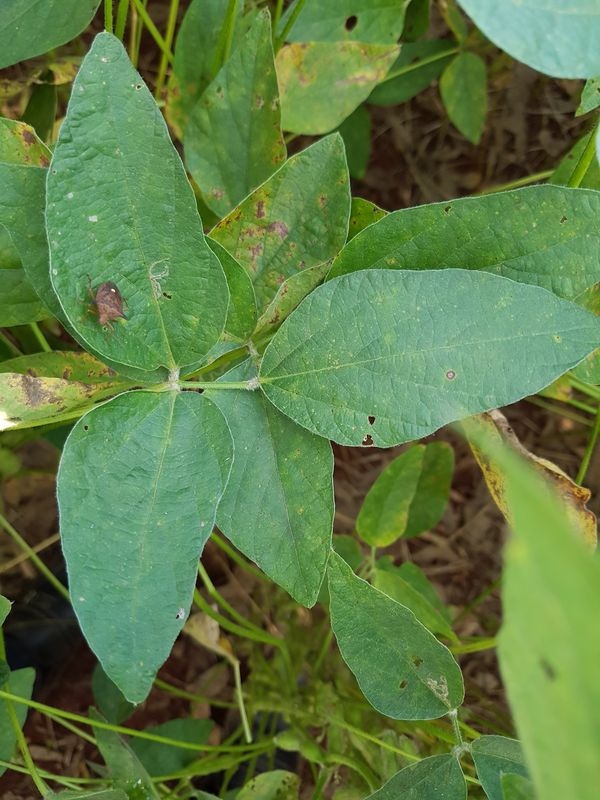Euschistus_heros_adulto: (72, 268, 140, 337)
